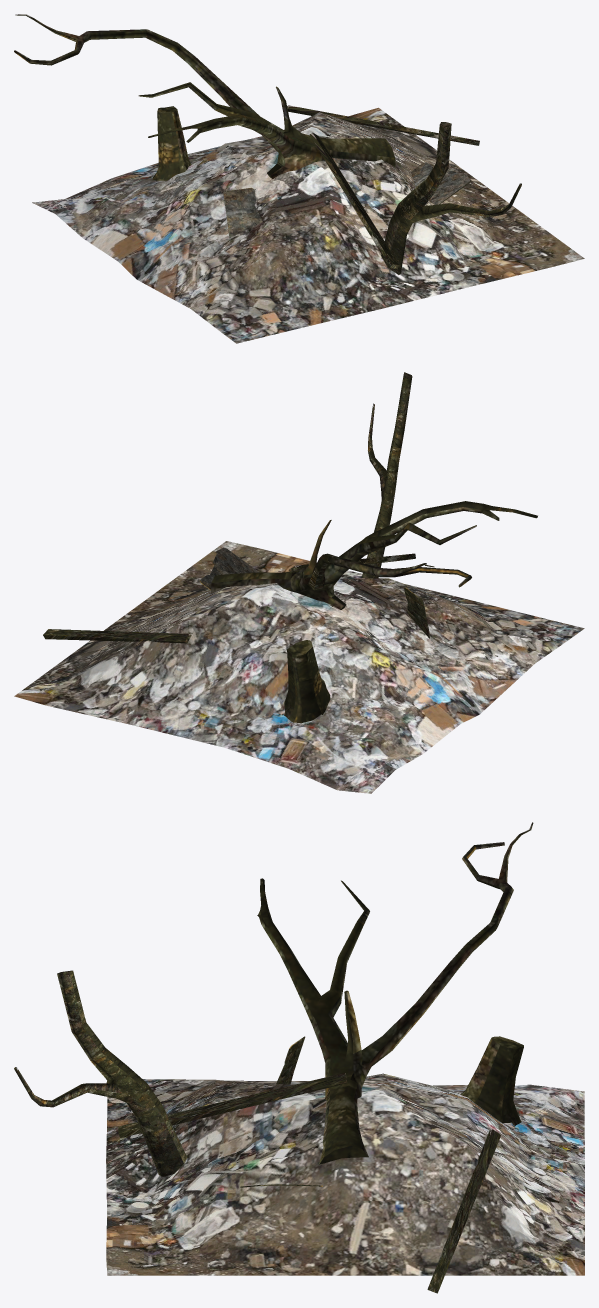
Rendered from Trash1.FBX.
3 renders of one model, top to bottom at view 1: azimuth 30°, elevation 25°; view 2: azimuth 150°, elevation 25°; view 3: azimuth 270°, elevation 25°, orthographic. The views are drawn at different scales.
Visible parts, largest first — view 1: WoodPile, Board005; view 2: WoodPile, Board005; view 3: WoodPile, Board005.
Boxes of the visible parts, x1,y1,x2,y2 form: WoodPile: [32, 107, 584, 343]; Board005: [14, 14, 521, 274]; WoodPile: [14, 541, 584, 793]; Board005: [43, 372, 537, 722]; WoodPile: [106, 1073, 584, 1275]; Board005: [14, 822, 533, 1293].
Bounding box in the file's own units: 0.4428 × 0.2131 × 0.4357.
Materials: 1 (1 with a texture image).
